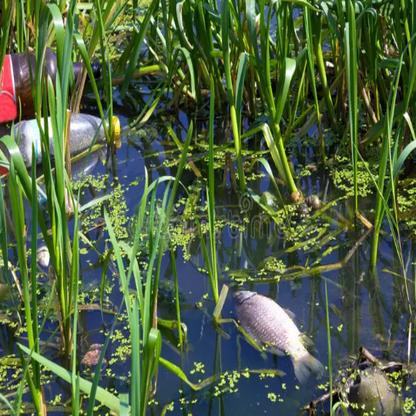deceased fish: (235, 290, 325, 381)
plastic bottle: (2, 52, 106, 119), (19, 110, 129, 149)
